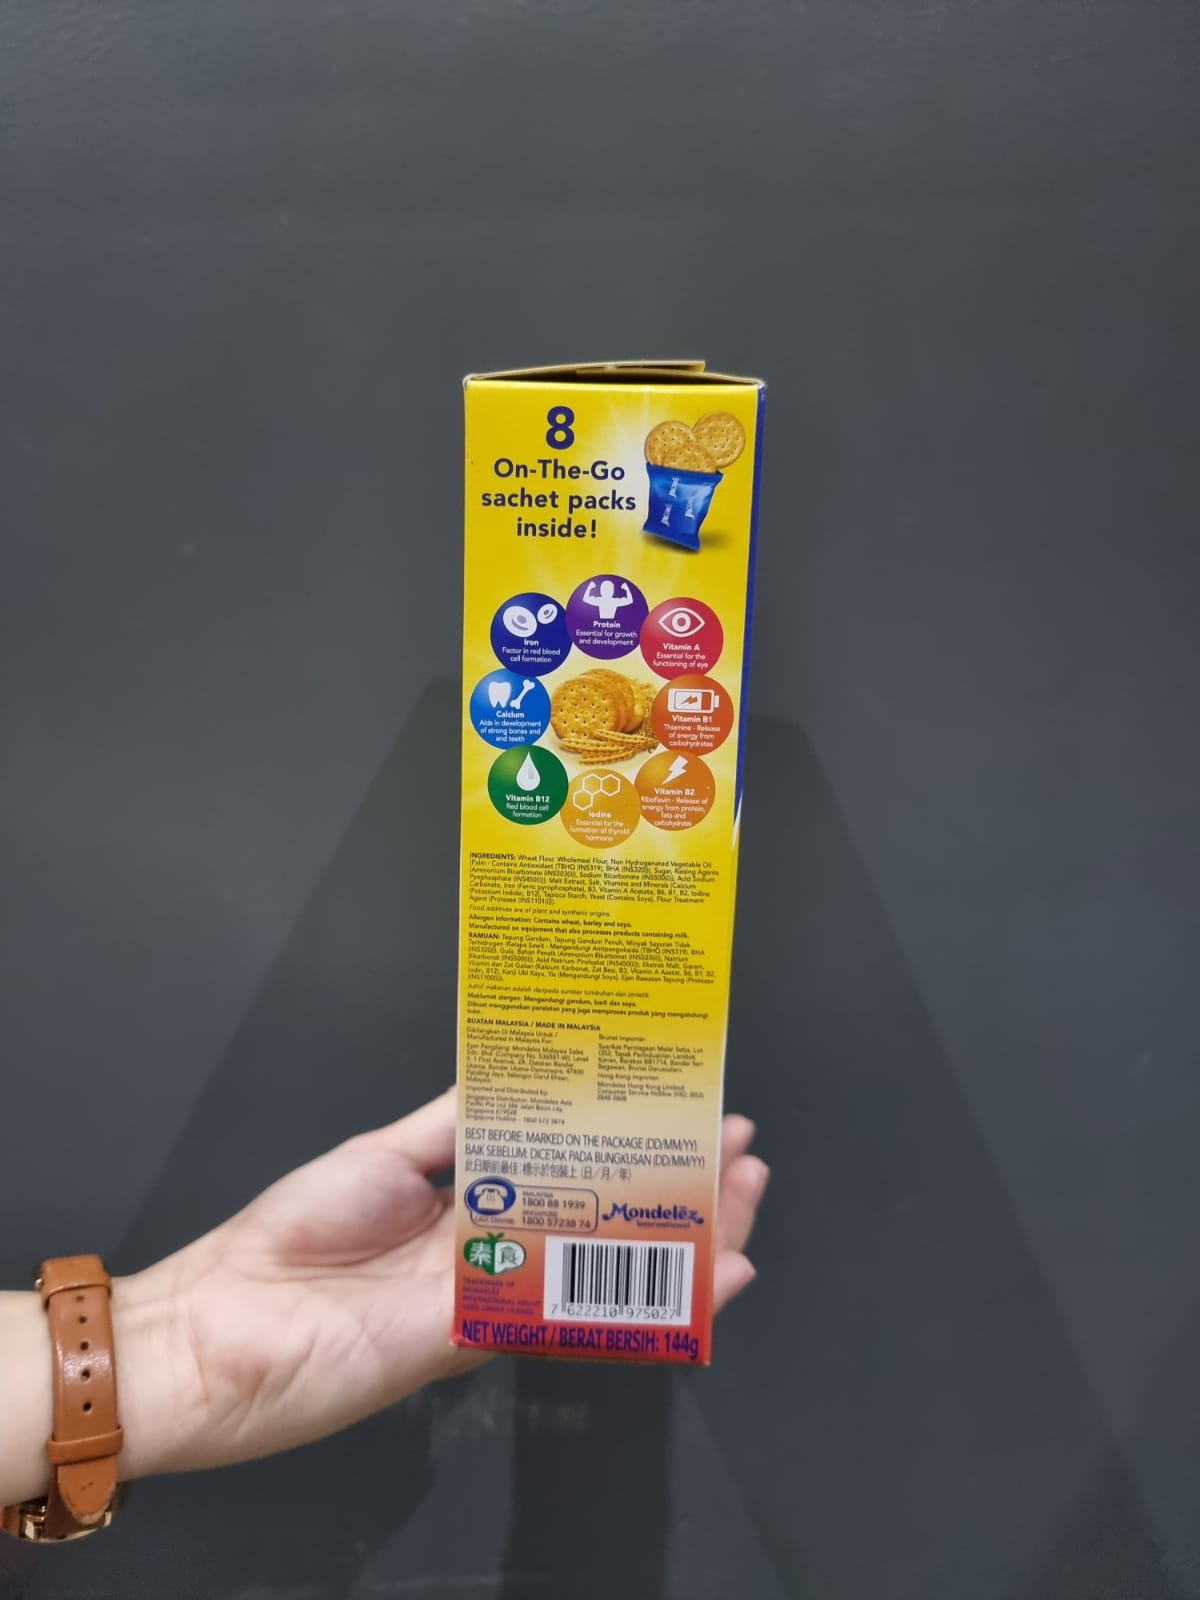Biscuits: (466, 391, 720, 1359)
